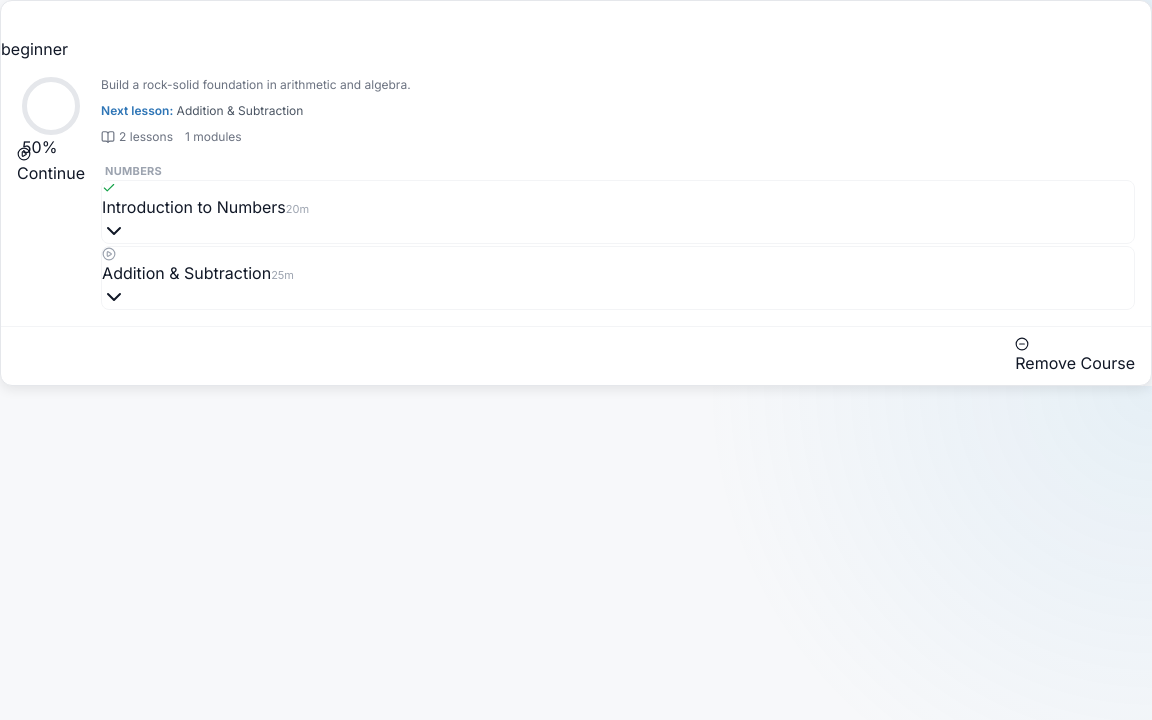
Test: EnrolledCourseCard › shows lesson notes when a lesson is expanded
This screenshot has width=1152, height=720.
Click the button "Addition & Subtraction25m". click: (198, 278)
box: [102, 246, 294, 308]
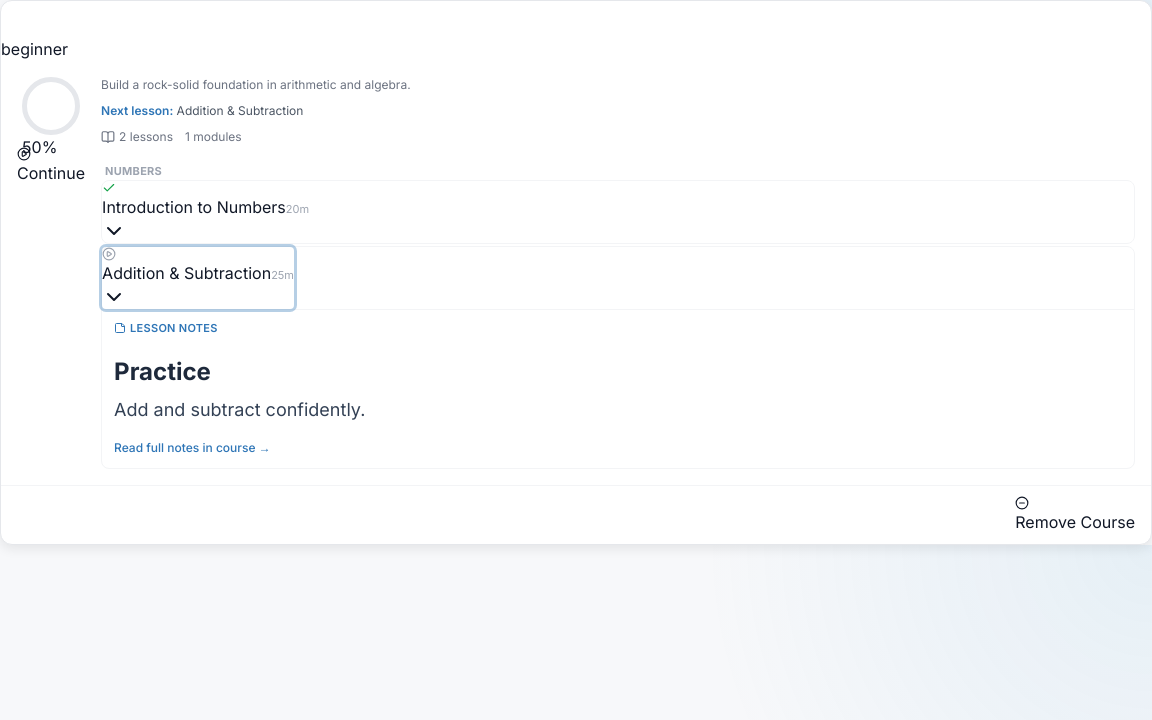
Result: the text "Lesson notes" is shown at [114, 320, 218, 334]
Result: the text "Add and subtract confidently." is shown at [114, 399, 365, 420]
